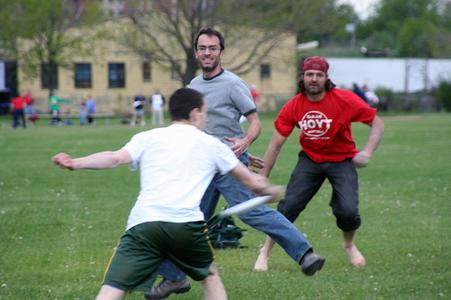person: (52, 87, 283, 300)
